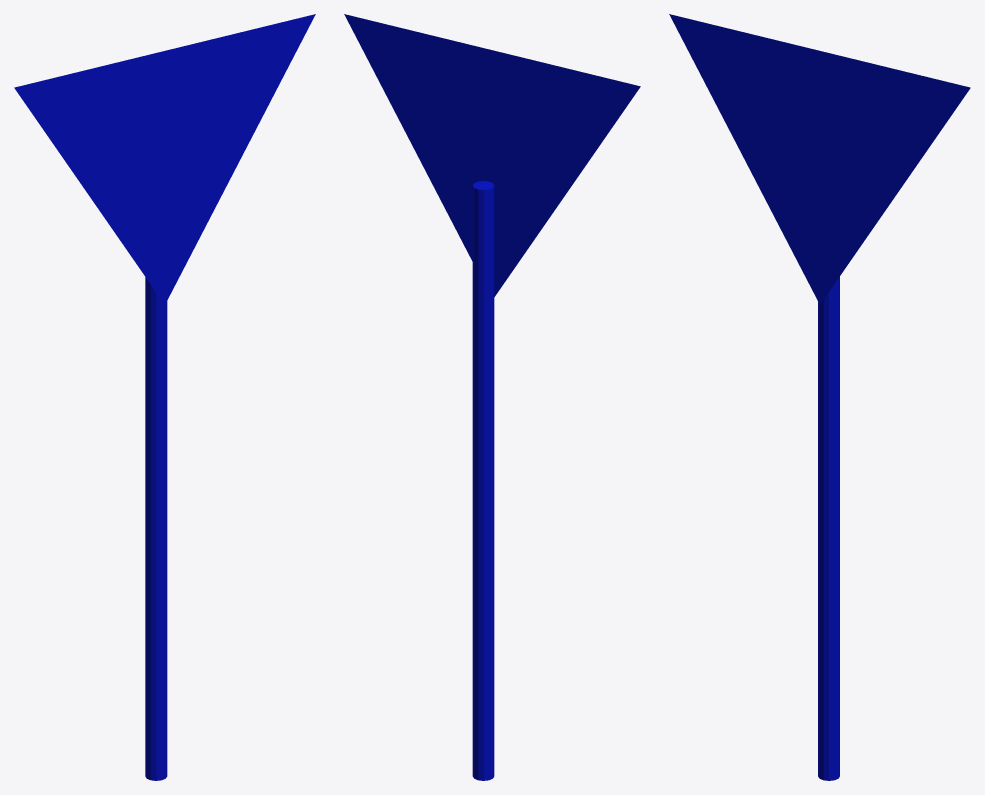
The model's file is Sign_3.fbx.
3 renders of one model, left to right at view 1: azimuth 30°, elevation 25°; view 2: azimuth 150°, elevation 25°; view 3: azimuth 330°, elevation 25°, orthographic.
Visible parts, largest first — view 1: Sign_3; view 2: Sign_3; view 3: Sign_3.
Boxes of the visible parts, x1,y1,x2,y2 form: Sign_3: (14, 14, 315, 780); Sign_3: (344, 14, 640, 780); Sign_3: (669, 14, 970, 780).
Bounding box in the file's own units: 269 × 622 × 22.17.
